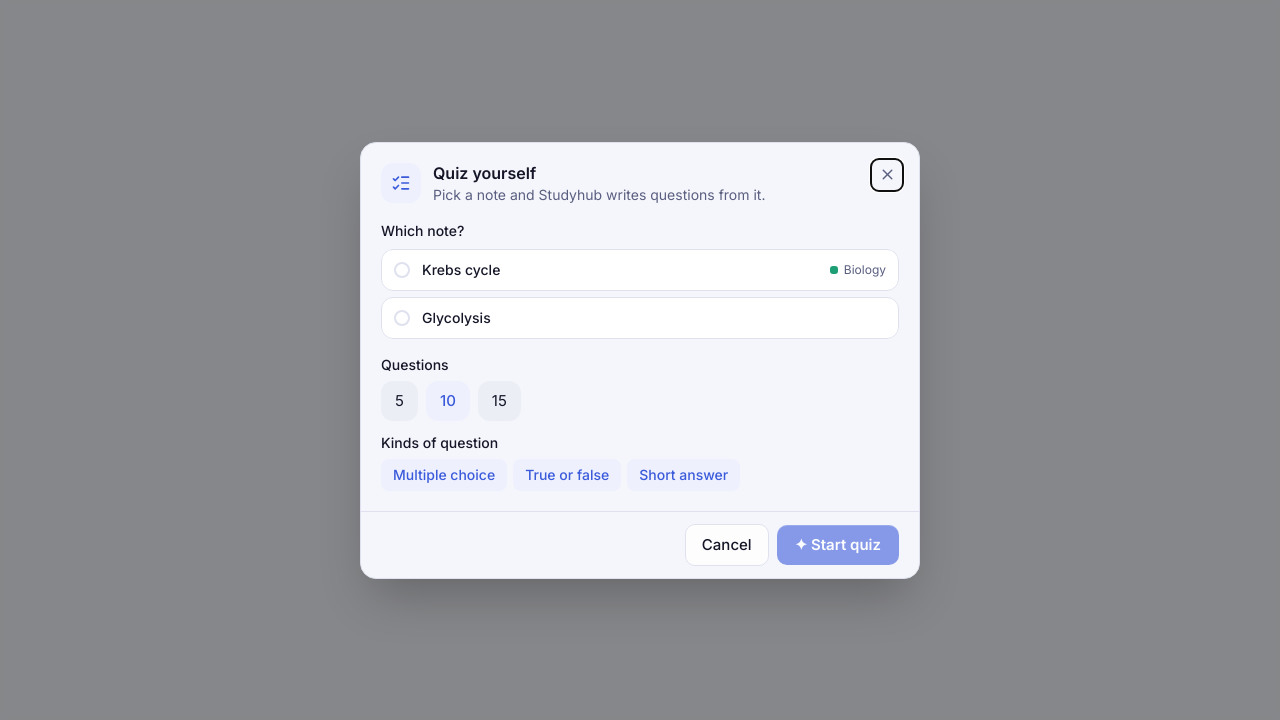
Test: the Quiz dialog › will not start with no kind of question chosen
Click the radio button labelled "Krebs cycle Biology": (461, 269) [381, 248, 899, 290]
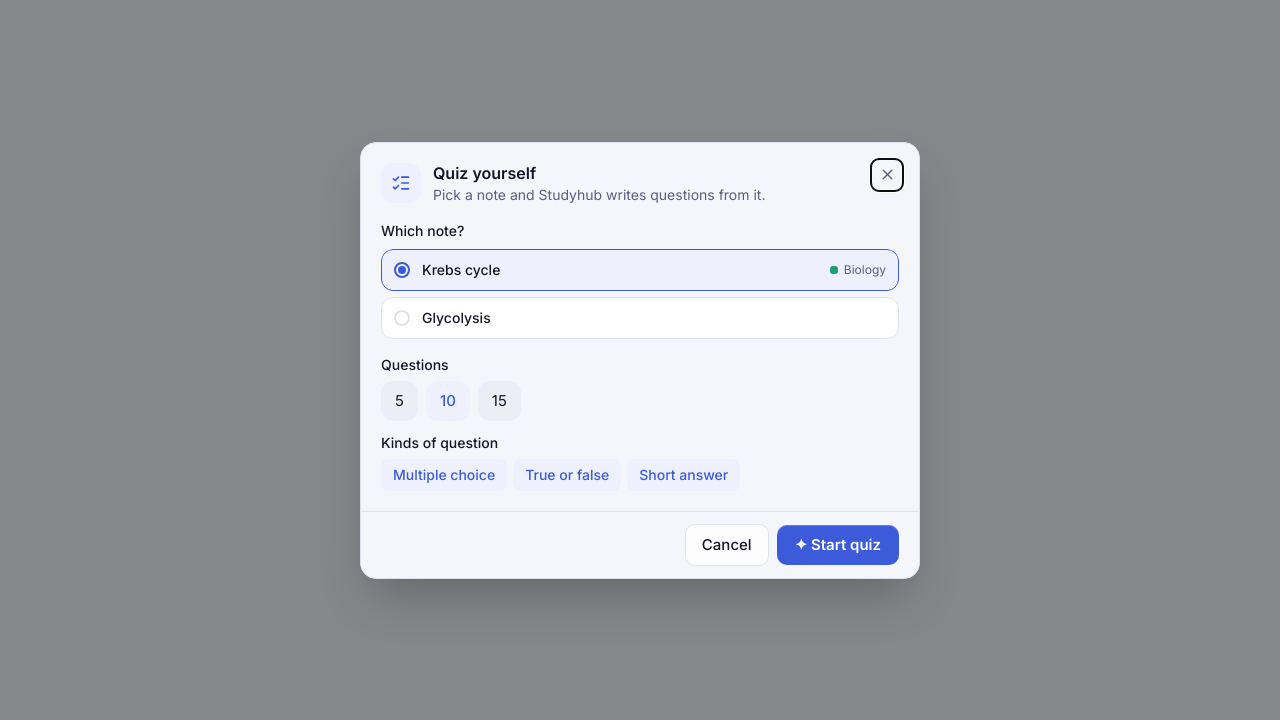
Click the button "Multiple choice": (444, 474) [381, 458, 507, 490]
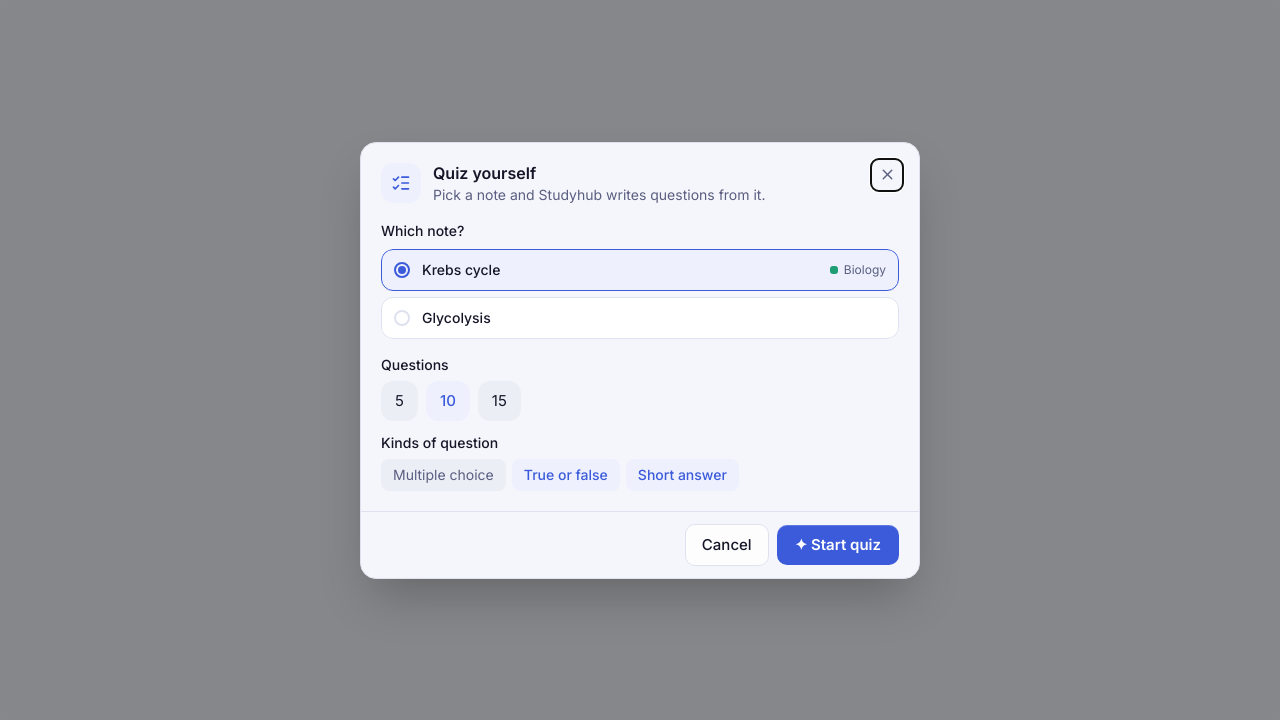
Click the button "True or false": (566, 474) [512, 458, 620, 490]
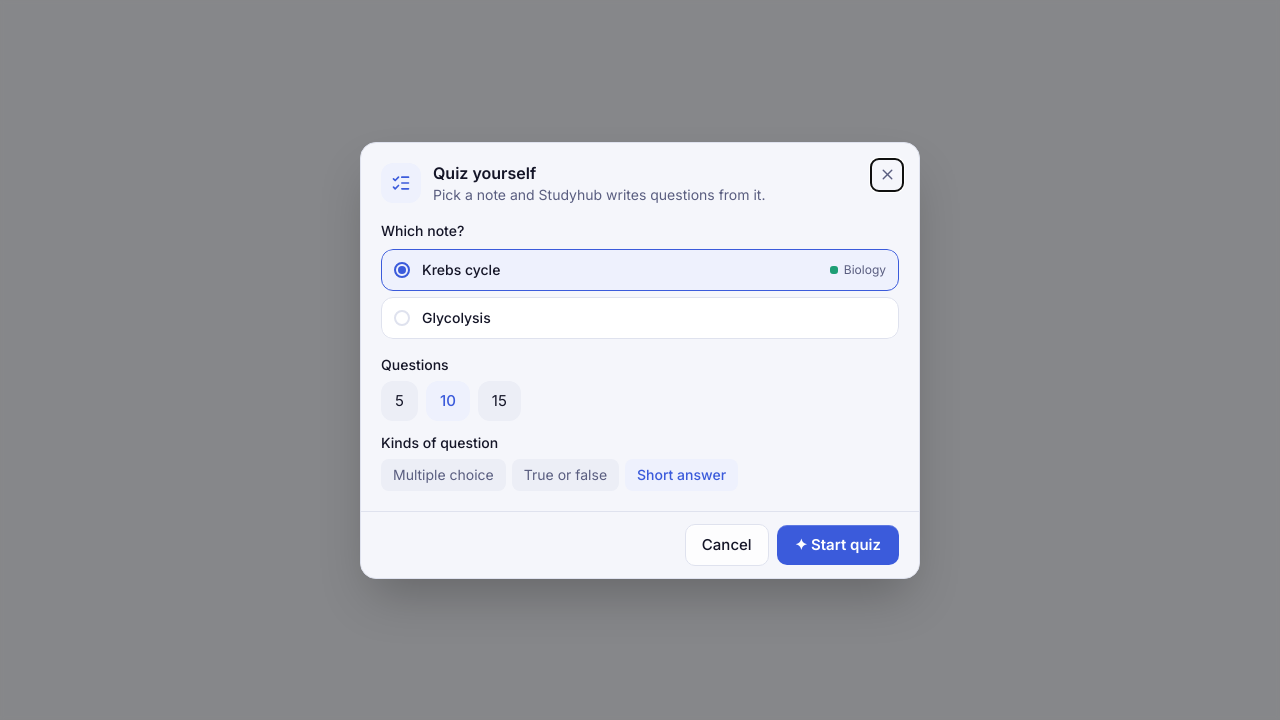
Click the button "Short answer": (682, 474) [625, 458, 738, 490]
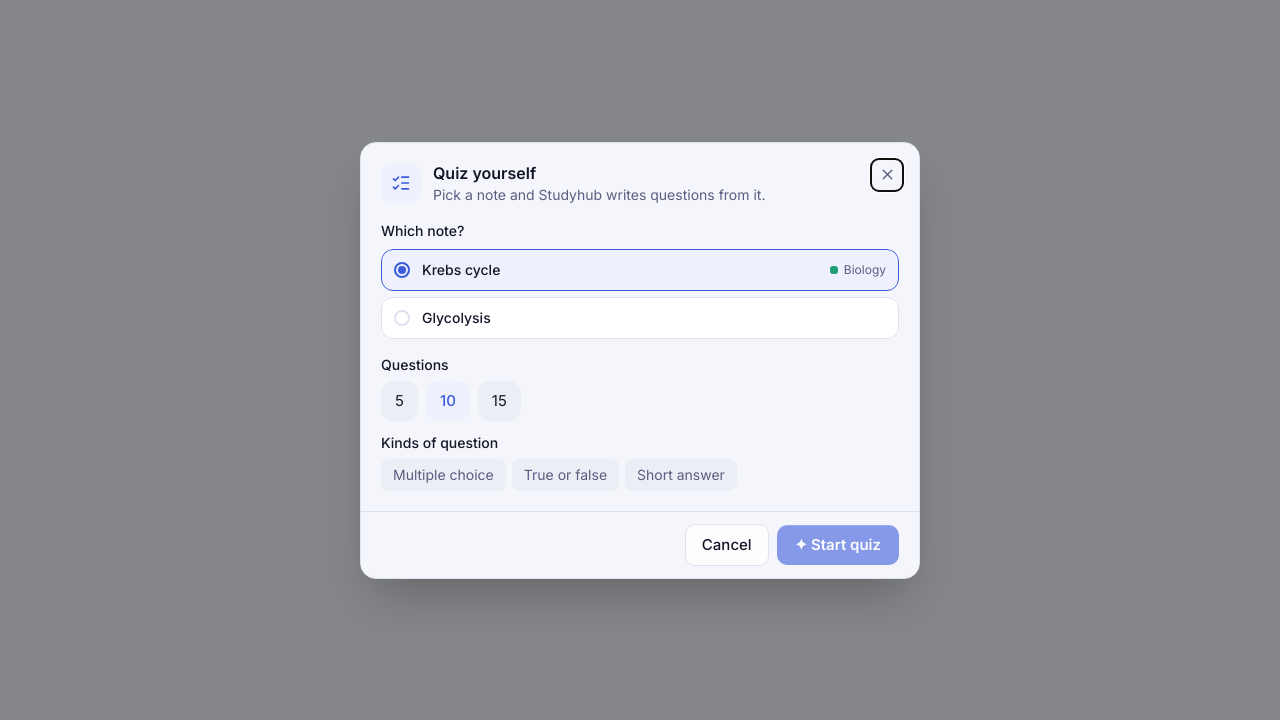
Result: the button "✦ Start quiz" is disabled at [777, 524, 899, 564]
